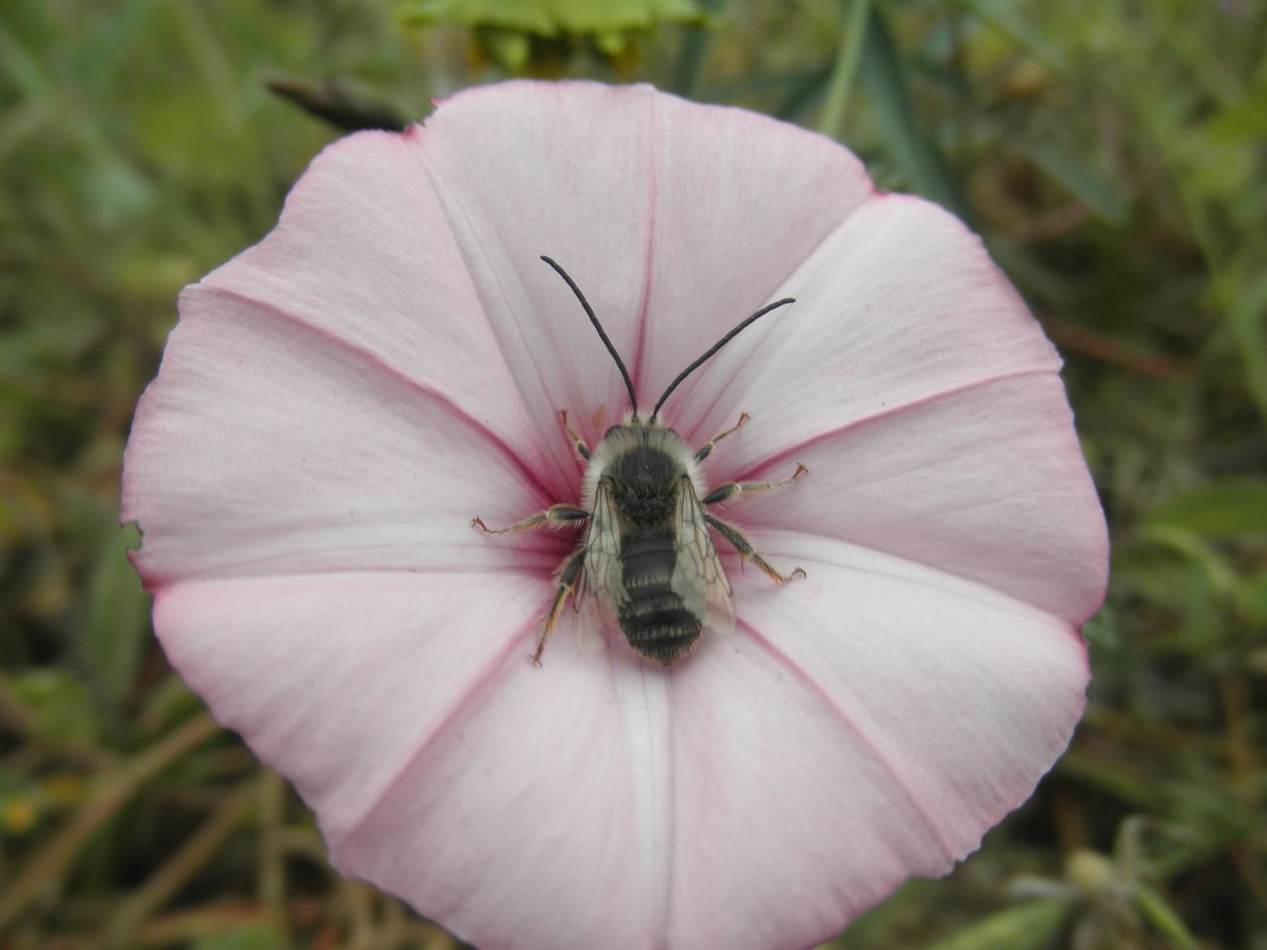Eucera elongatula: (460, 247, 815, 691)
